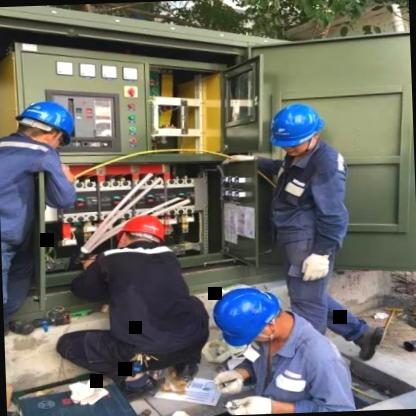helmet: (208, 282, 290, 358), (266, 100, 330, 160), (17, 98, 80, 152), (117, 213, 170, 253)
